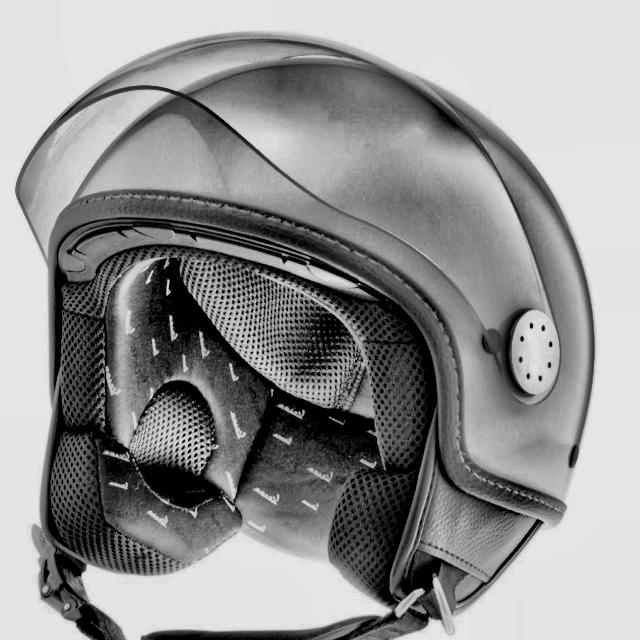Helmet: (0, 19, 597, 640)
